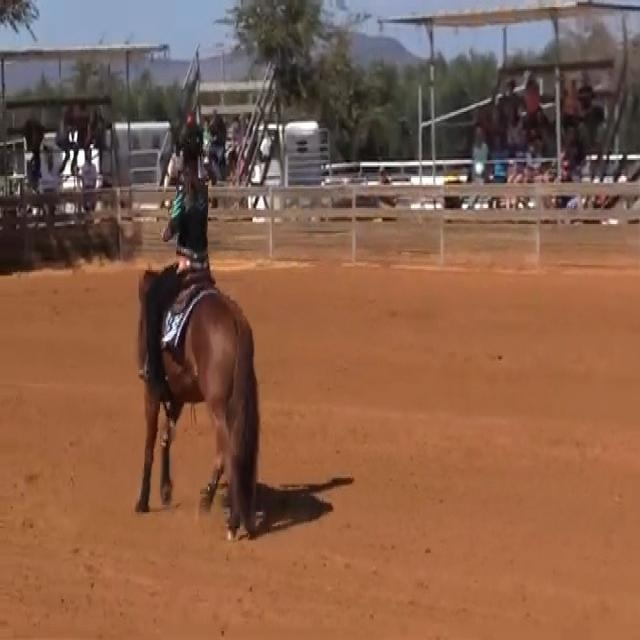horse: (133, 261, 262, 539)
